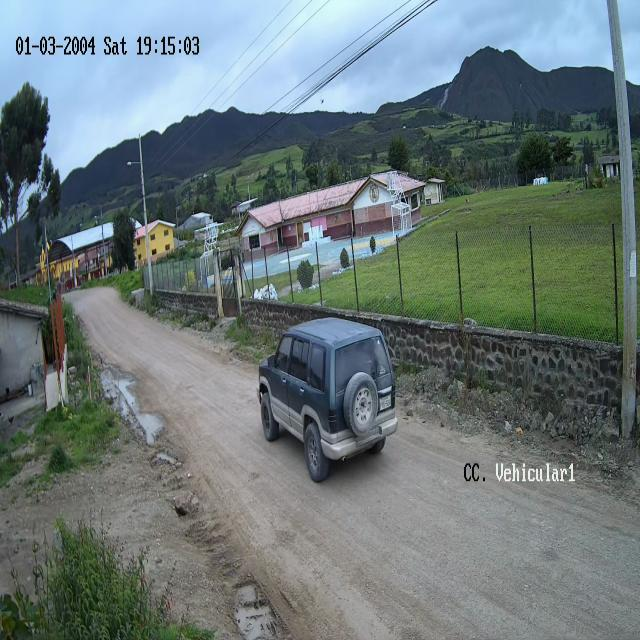SUV: (257, 319, 398, 483)
